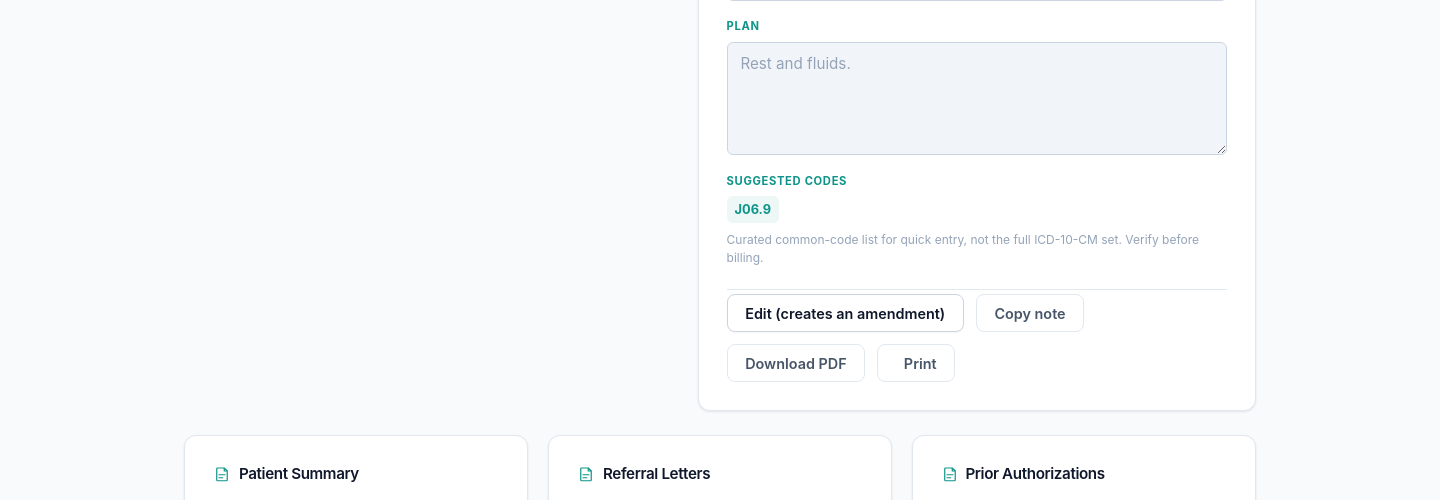
NoteReview › unlocks into an amendment when Edit is clicked on a signed note
This screenshot has width=1440, height=500.
(page scrolled)
What coordinates should you click on to do the following:
click the button "Edit (creates an amendment)"
I would click on:
 (845, 313)
Its box is [727,294,964,332].
(page scrolled)
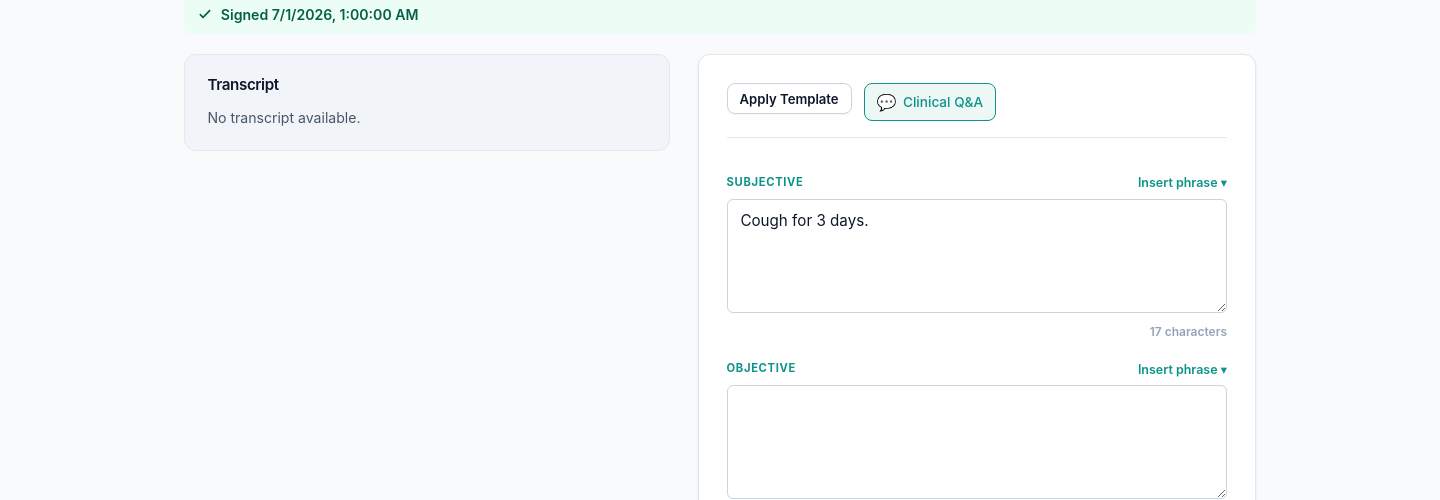
Check: the text box showing "Cough for 3 days." below "subjective" is enabled, box [727,199,1227,313]
